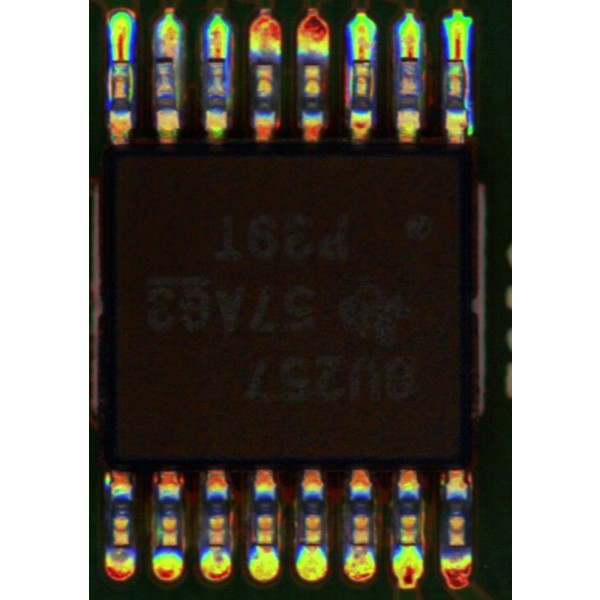Bad_podu: (257, 536, 275, 554), (400, 51, 419, 67), (352, 537, 370, 552), (159, 49, 173, 68), (209, 53, 225, 68), (306, 537, 321, 553), (111, 55, 129, 68), (451, 52, 464, 68), (355, 55, 369, 68)
Bad_qiaojiao: (466, 63, 475, 138)
